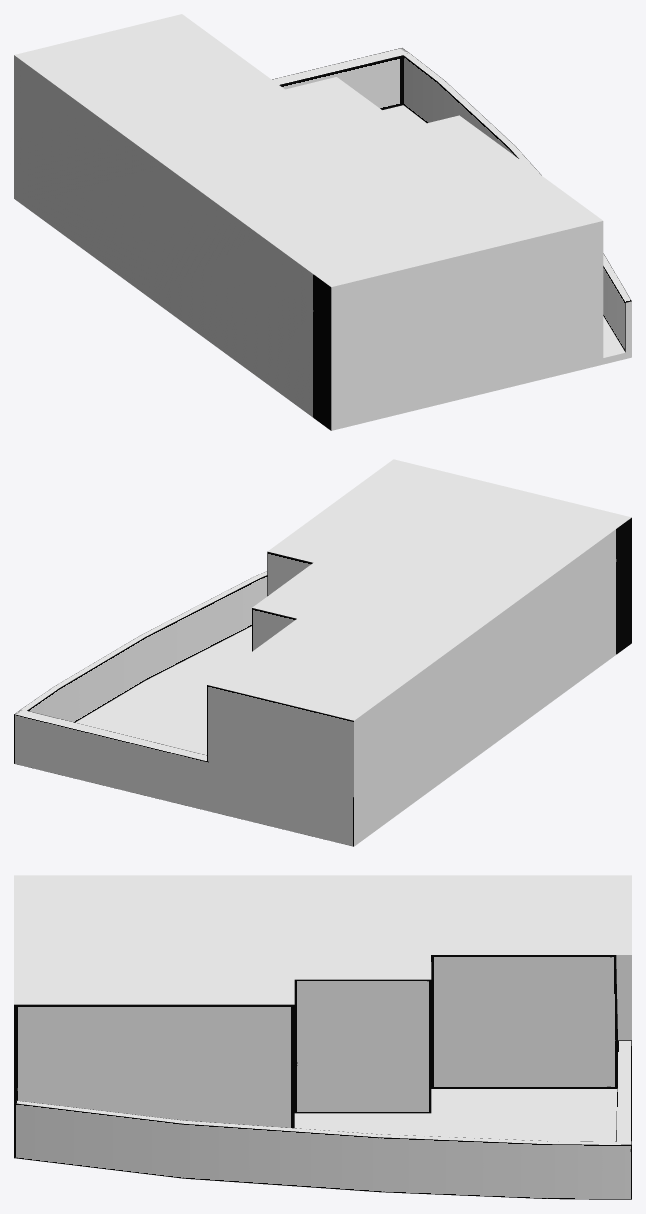
File: Building.obj
The picture shows the model from 3 angles, top to bottom: view 1: azimuth 30°, elevation 25°; view 2: azimuth 150°, elevation 25°; view 3: azimuth 270°, elevation 25°; orthographic projection. The views are drawn at different scales.
Visible parts, largest first — view 1: Cube.053_Cube.078; view 2: Cube.053_Cube.078; view 3: Cube.053_Cube.078.
Part boxes in pixels (x1=…): Cube.053_Cube.078: x1=14, y1=14, x2=631, y2=430; Cube.053_Cube.078: x1=14, y1=459, x2=631, y2=846; Cube.053_Cube.078: x1=14, y1=875, x2=631, y2=1199.
Size of the model in its own units: 84.81 by 30 by 120.
Materials: 1 (1 with a texture image).
